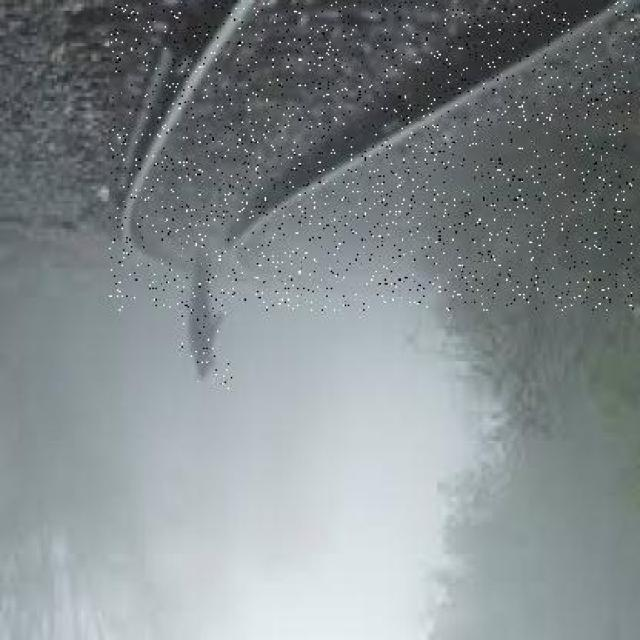danger: (182, 215, 232, 391)
rail: (110, 2, 634, 310)
